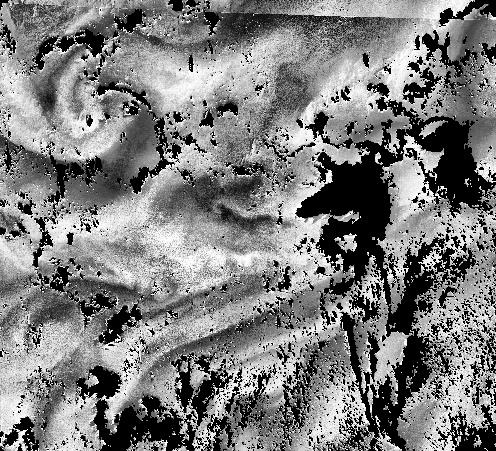CE: (38, 32, 159, 149)
